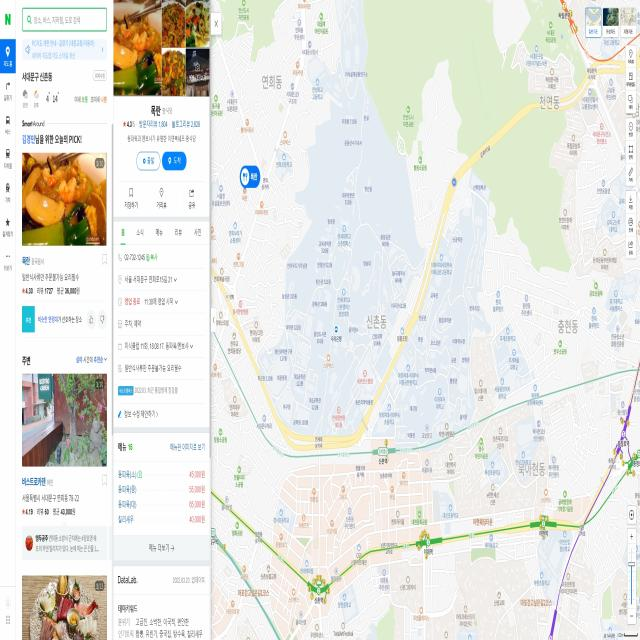search: (20, 5, 108, 31)
tab-bar: (114, 221, 208, 245)
